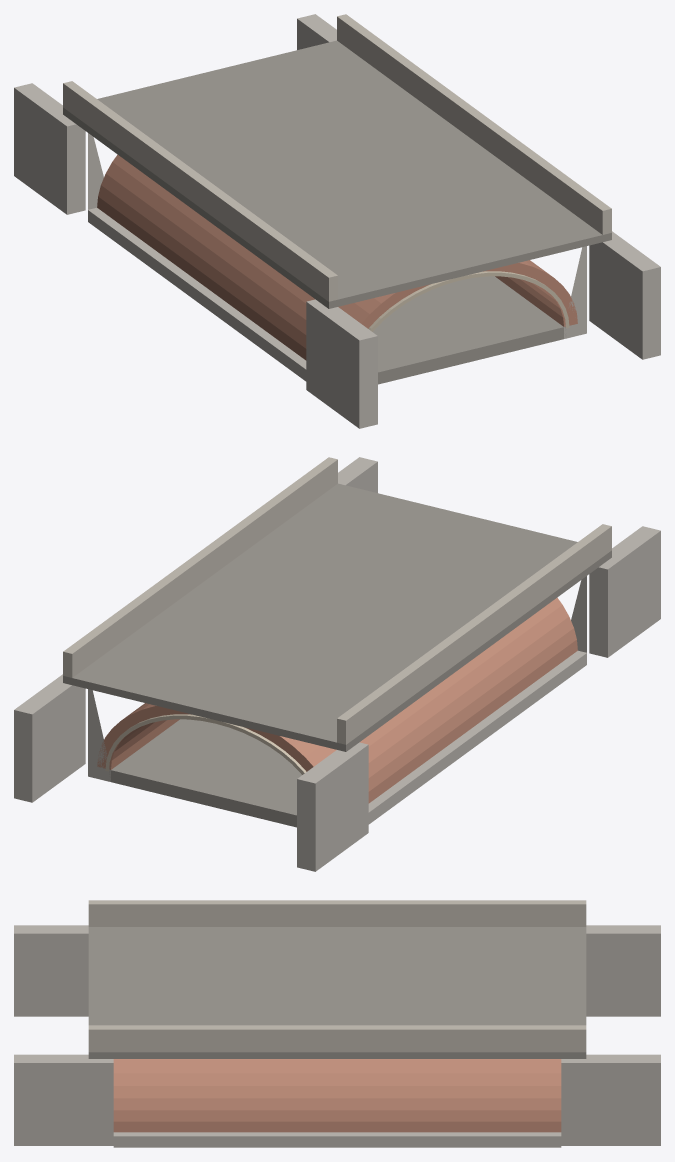
File: cp_greyshot_arch.glb
3 renders of one model, top to bottom at view 1: azimuth 30°, elevation 25°; view 2: azimuth 150°, elevation 25°; view 3: azimuth 270°, elevation 25°, orthographic. The views are drawn at different scales.
Visible parts, largest first — view 1: GreyshotArch; view 2: GreyshotArch; view 3: GreyshotArch.
Part boxes in pixels (box(x1,y1,x2,y2)): GreyshotArch: box(14, 14, 660, 428); GreyshotArch: box(14, 457, 660, 871); GreyshotArch: box(14, 900, 660, 1147).
Bounding box in the file's own units: 13.1 × 5.47 × 26.
